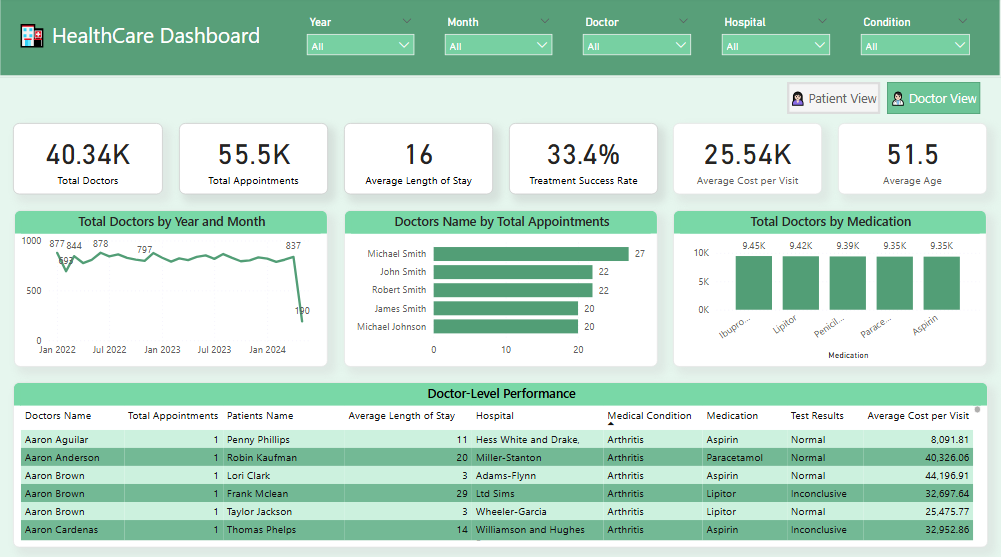

What the dashboard file says about the page in this screenshot:
{"tool":"powerbi","page":{"name":"Doctor View","canvas":[1280,720],"ordinal":1},"visuals":[{"type":"shape","box":[0,0,1280,102.9],"z":0},{"type":"slicer","fields":{"Values":["healthcare_dataset.Doctor"]},"box":[736.1,18.6,157.7,67.4],"z":1000},{"type":"slicer","fields":{"Values":["healthcare_dataset.Hospital"]},"box":[913.1,18.6,157.7,67.4],"z":2000},{"type":"slicer","fields":{"Values":["healthcare_dataset.Medical Condition"]},"box":[1090.1,18.6,159.2,67.4],"z":3000},{"type":"slicer","fields":{"Values":["Calendar.MonthName"]},"box":[559.9,18.5,156.8,67.6],"z":4000},{"type":"slicer","fields":{"Values":["Calendar.Year"]},"box":[383.7,18.5,156.8,67.6],"z":5000},{"type":"textbox","box":[19.8,23.8,336.8,55.5],"z":6000},{"type":"card","fields":{"Values":["_Measures.Average Cost per Visit"]},"box":[861.2,160,190,90.5],"z":7000},{"type":"card","fields":{"Values":["_Measures.Average Age"]},"box":[1071.3,160,190,90.5],"z":8000},{"type":"card","fields":{"Values":["_Measures.Total Appointments"]},"box":[230.9,160,190,90.5],"z":9000},{"type":"card","fields":{"Values":["_Measures.Treatment Success Rate"]},"box":[651.1,160,190,90.5],"z":10000},{"type":"card","fields":{"Values":["_Measures.Total Doctors"]},"box":[19.5,160,191.2,90.5],"z":11000},{"type":"card","fields":{"Values":["_Measures.Average Length of Stay"]},"box":[441,160,190,90.5],"z":12000},{"type":"lineChart","fields":{"Y":["_Measures.Total Doctors"],"Category":["Calendar.Date.Variation.Date Hierarchy.Year","Calendar.Date.Variation.Date Hierarchy.Month"]},"box":[20.4,271.6,400.3,200.2],"z":13000},{"type":"columnChart","title":"Total Doctors by Medication","fields":{"Category":["healthcare_dataset.Medication"],"Y":["_Measures.Total Doctors"]},"box":[860.6,271.6,400.3,200.2],"z":14000},{"type":"clusteredBarChart","title":"Doctors Name by Total Appointments","fields":{"Category":["healthcare_dataset.Doctor"],"Y":["_Measures.Total Appointments"]},"box":[441.1,271.6,400.3,200.2],"z":15000},{"type":"actionButton","box":[1134,108,118.9,40.9],"z":16000},{"type":"actionButton","box":[1006,108,118.9,40.9],"z":17000},{"type":"tableEx","title":"Doctor-Level Performance","fields":{"Values":["healthcare_dataset.Doctor","_Measures.Total Appointments","healthcare_dataset.Name","_Measures.Average Length of Stay","healthcare_dataset.Hospital","healthcare_dataset.Medical Condition","healthcare_dataset.Medication","healthcare_dataset.Test Results","_Measures.Average Cost per Visit"]},"box":[19.2,490.6,1243.2,210.9],"z":18000}]}

Visuals, with their boxes in screenshot pixels (x1, y1, x2, y2), scaled from the page's 1280x720 canvas onto the 1001x557 screenshot:
shape: 0 0 1000 80
slicer - healthcare_dataset.Doctor: 576 14 699 67
slicer - healthcare_dataset.Hospital: 714 14 837 67
slicer - healthcare_dataset.Medical Condition: 852 14 977 67
slicer - Calendar.MonthName: 438 14 560 67
slicer - Calendar.Year: 300 14 423 67
textbox: 15 18 279 61
card - _Measures.Average Cost per Visit: 673 124 822 194
card - _Measures.Average Age: 838 124 986 194
card - _Measures.Total Appointments: 181 124 329 194
card - _Measures.Treatment Success Rate: 509 124 658 194
card - _Measures.Total Doctors: 15 124 165 194
card - _Measures.Average Length of Stay: 345 124 493 194
lineChart - _Measures.Total Doctors x Calendar.Date.Variation.Date Hierarchy.Year: 16 210 329 365
"Total Doctors by Medication" columnChart: 673 210 986 365
"Doctors Name by Total Appointments" clusteredBarChart: 345 210 658 365
actionButton: 887 84 980 115
actionButton: 787 84 880 115
"Doctor-Level Performance" tableEx: 15 380 987 543
